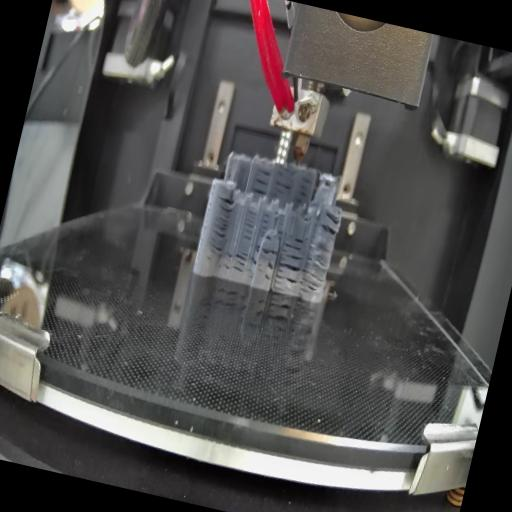cracks: (296, 240, 332, 300), (205, 194, 236, 254), (272, 250, 302, 294), (218, 249, 258, 278), (268, 168, 294, 202), (291, 174, 315, 208), (249, 165, 272, 196), (240, 208, 259, 244), (318, 210, 340, 238), (282, 232, 305, 252), (253, 243, 278, 260), (262, 260, 276, 284), (258, 210, 271, 232), (274, 224, 284, 240), (320, 178, 332, 191), (262, 231, 274, 243)
